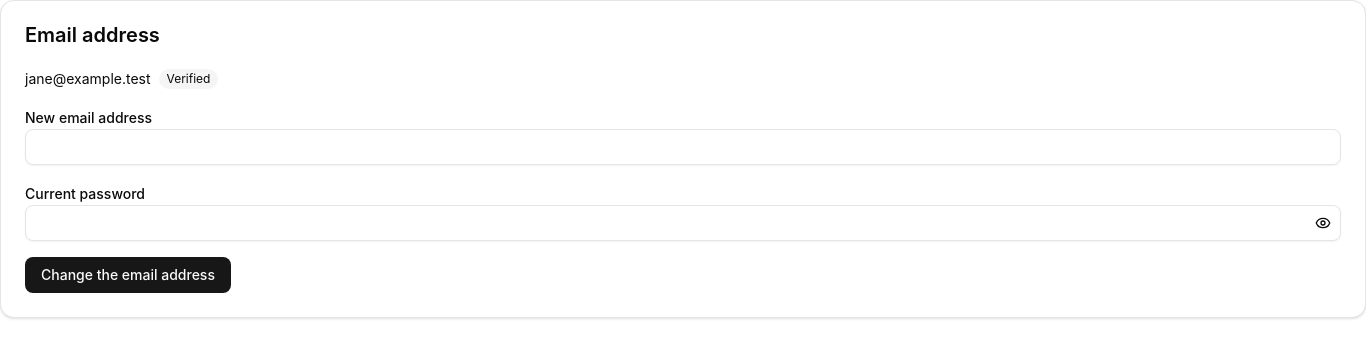
shows a wrong password under the password field
In the field labelled "New email address": (683, 147) [25,129,1341,165], type "new@example.test"
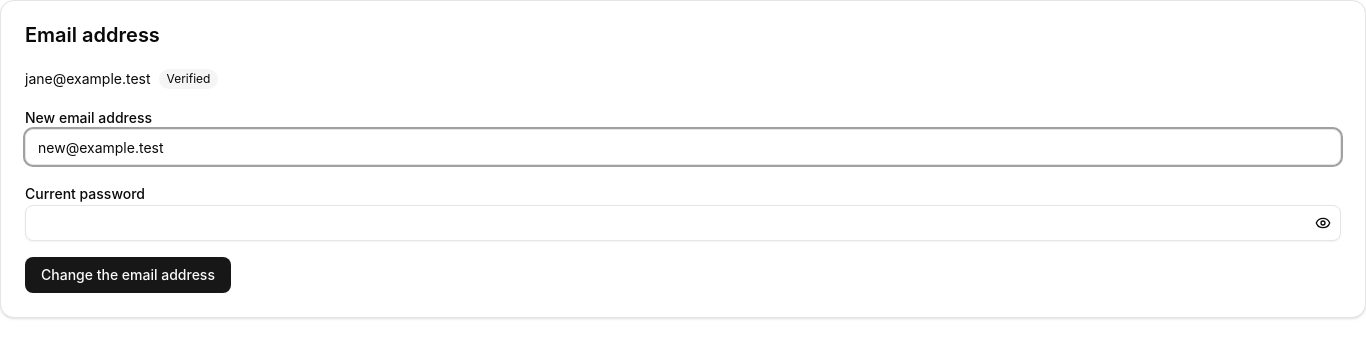
In the password field labelled "Current password": (683, 223) [25,205,1341,241], type "wrong"
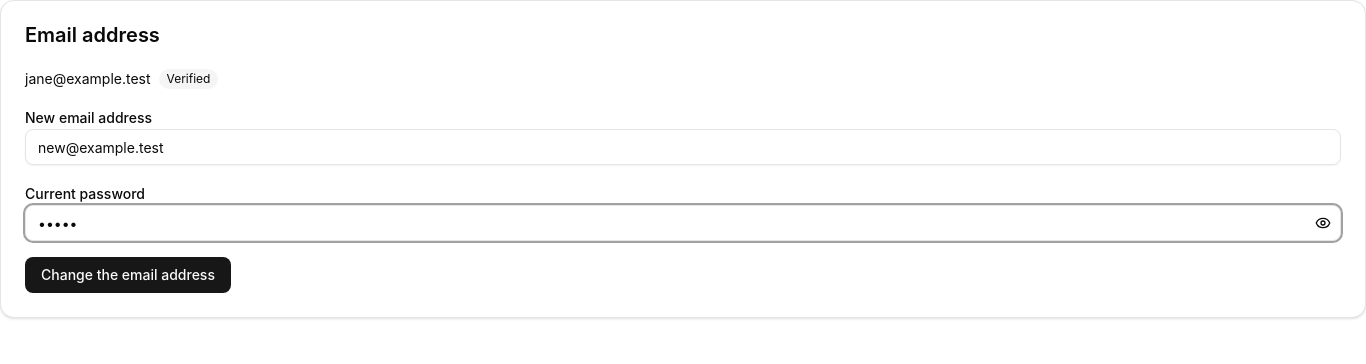
Click the button "Change the email address": (128, 275) [25,257,231,293]
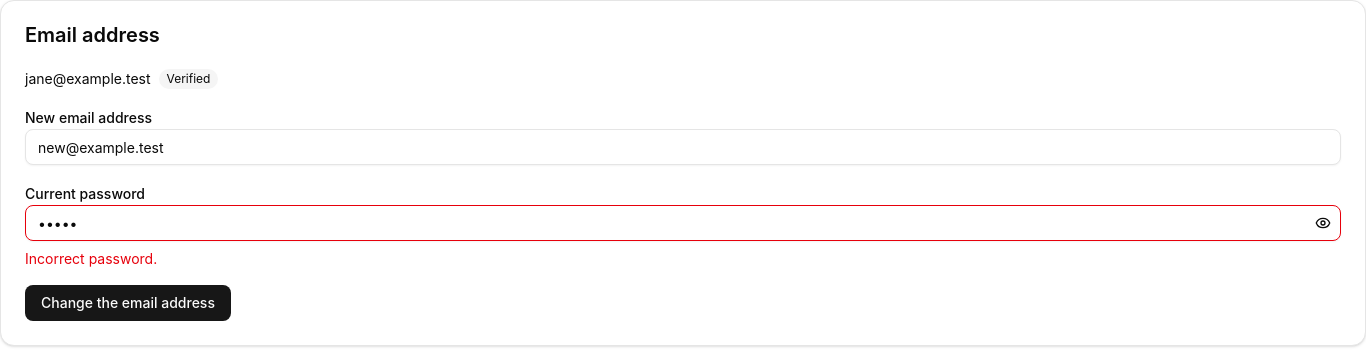
expect the text "Incorrect password." is shown: met, box [25,250,157,267]
